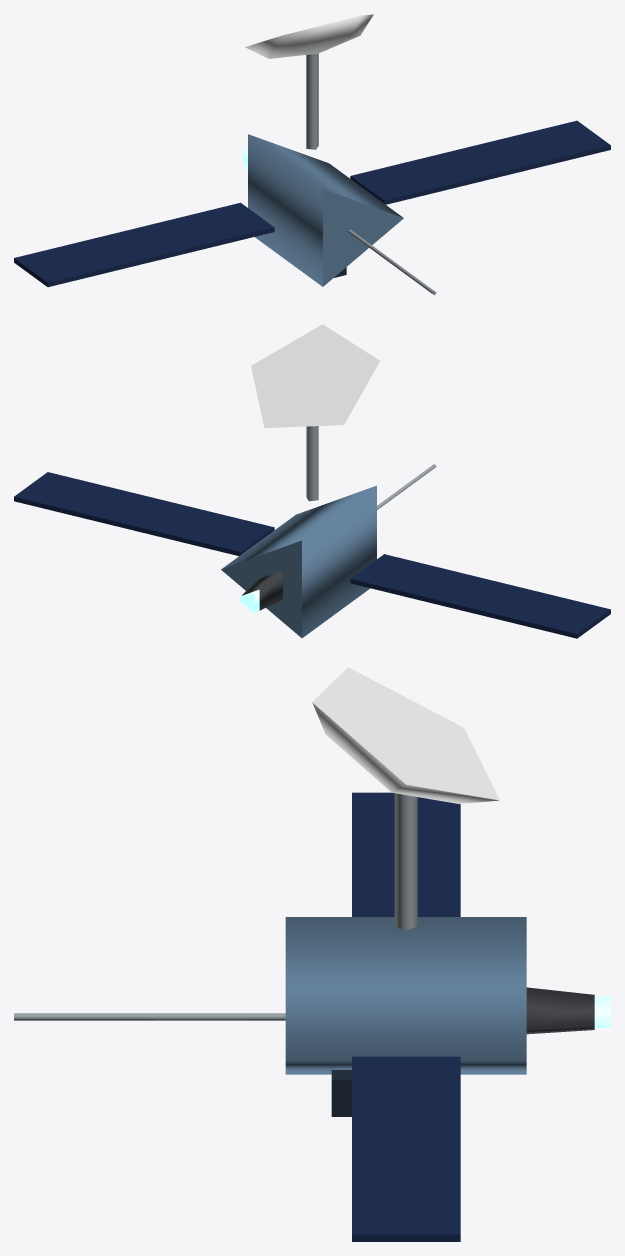
The model's file is space_ship_probe_mk5_lod2.glb.
The picture shows the model from 3 angles, top to bottom: view 1: azimuth 30°, elevation 25°; view 2: azimuth 150°, elevation 25°; view 3: azimuth 270°, elevation 25°; orthographic projection. The views are drawn at different scales.
Parts seen in each view (by area): view 1: body, solar_0, solar_1, antenna_0; view 2: body, antenna_0, solar_0, solar_1, engine_0; view 3: body, solar_1, antenna_0, solar_0, engine_0.
Part boxes in pixels (x1,y1,x2,y2): body: [248, 134, 436, 295]; solar_0: [14, 202, 274, 287]; solar_1: [350, 120, 610, 204]; antenna_0: [245, 14, 373, 149]; body: [221, 464, 436, 637]; antenna_0: [251, 324, 379, 501]; solar_0: [350, 554, 610, 638]; solar_1: [14, 472, 274, 555]; engine_0: [238, 570, 282, 613]; body: [14, 917, 526, 1116]; solar_1: [352, 1056, 460, 1241]; antenna_0: [312, 667, 499, 930]; solar_0: [352, 792, 460, 916]; engine_0: [526, 987, 610, 1034].
Bounding box in the file's own units: 7.7 × 3.42 × 4.4.
